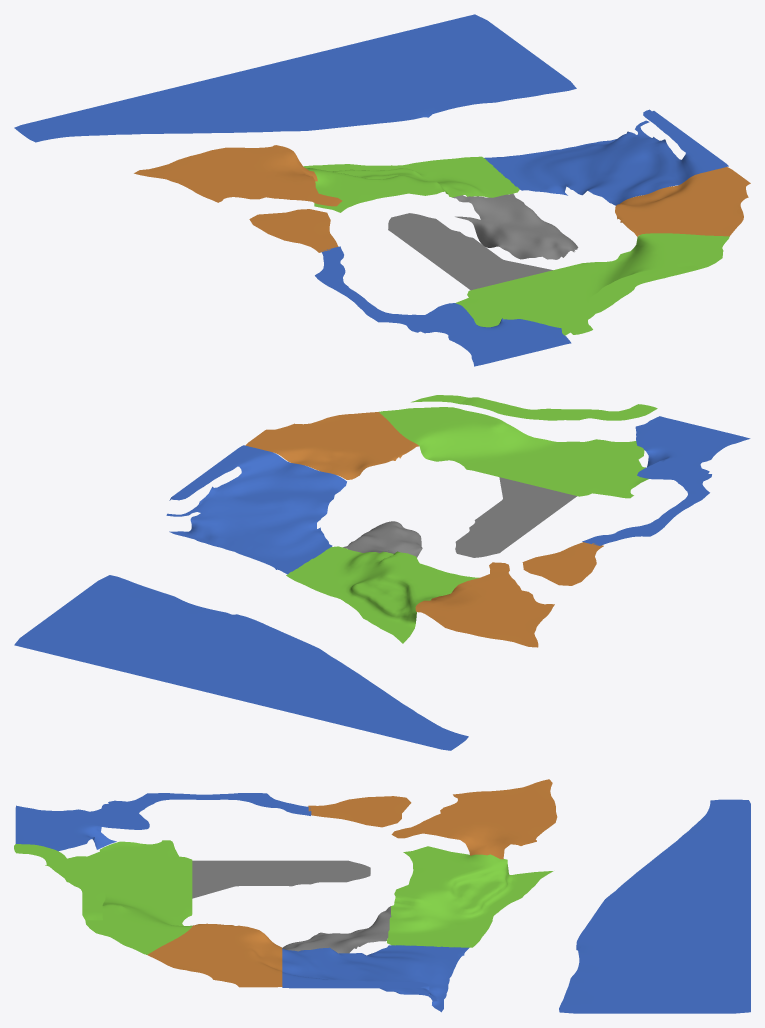
Rendered from F_Land_Road_001.fbx.
3 views of the same model, one above another, from view 1: azimuth 30°, elevation 25°; view 2: azimuth 150°, elevation 25°; view 3: azimuth 270°, elevation 25° (orthographic). The views are drawn at different scales.
Visible parts, largest first — view 1: Object013; view 2: Object013; view 3: Object013.
Part boxes in pixels (<box>): Object013: <box>14,14,750,366</box>; Object013: <box>14,395,750,750</box>; Object013: <box>14,779,750,1013</box>.
Bounding box in the file's own units: 7771 × 977 × 11233.
